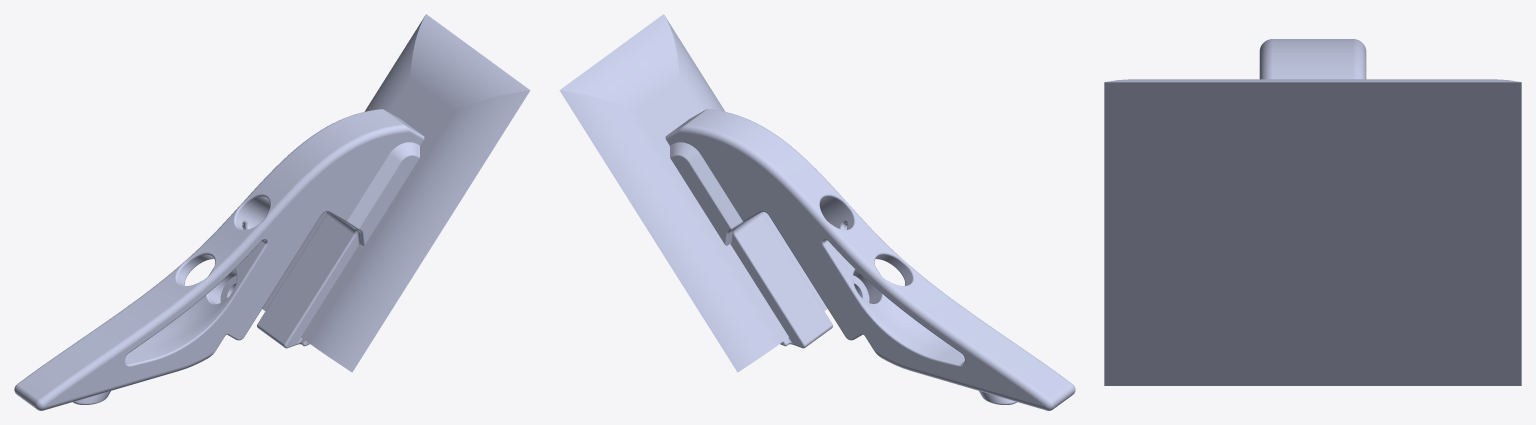
3 views of the same model, side by side, from view 1: azimuth 30°, elevation 25°; view 2: azimuth 150°, elevation 25°; view 3: azimuth 270°, elevation 25° (orthographic). The views are drawn at different scales.
Parts seen in each view (by area): view 1: 본체1; view 2: 본체1; view 3: 본체1.
Boxes of the visible parts, box(x1,y1,x2,y2) form: 본체1: box(14, 14, 530, 410); 본체1: box(559, 14, 1075, 410); 본체1: box(1104, 39, 1521, 385).
Size of the model in its own units: 78.21 by 41.55 by 31.2.
